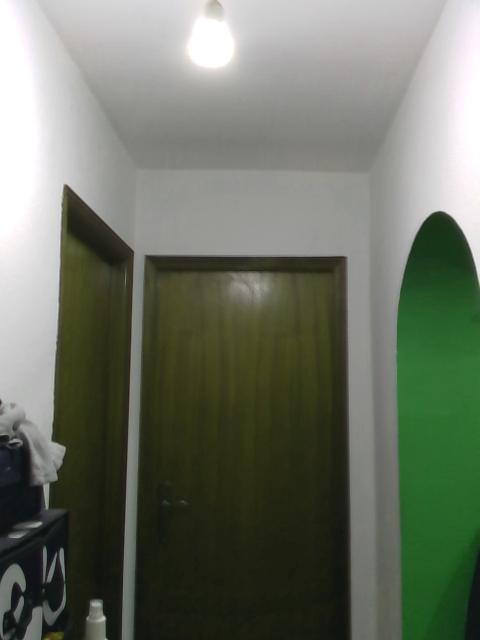closed_door: (132, 257, 350, 639)
